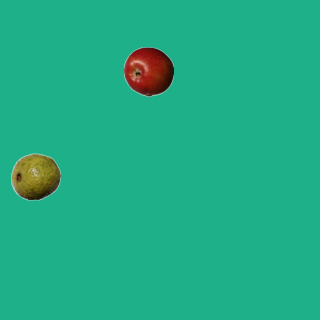Apple Braeburn: (123, 46, 173, 96)
Guava: (10, 151, 60, 201)
